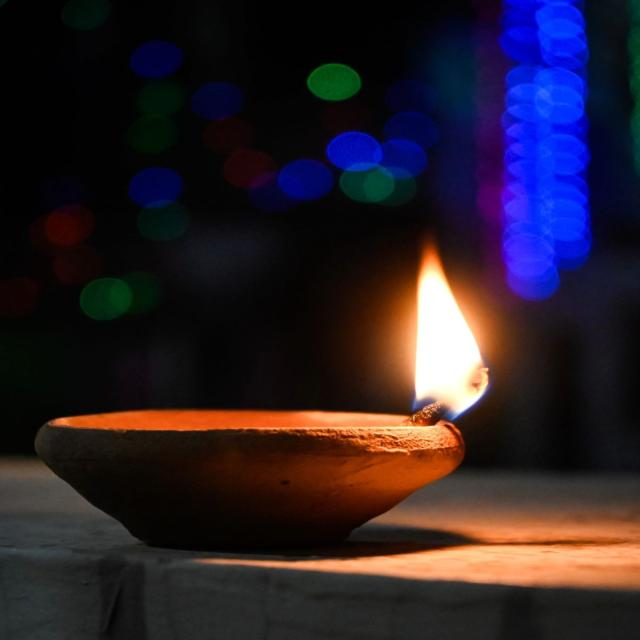fire: (413, 239, 491, 420)
